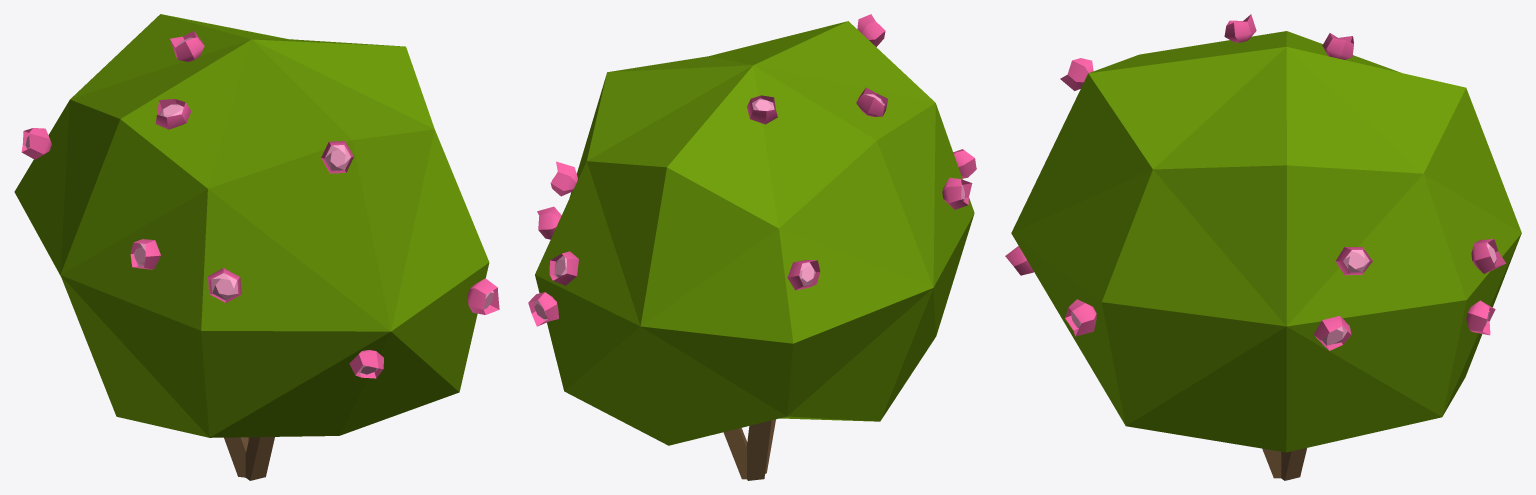
The model's file is rosebush.glb.
The picture shows the model from 3 angles, left to right: view 1: azimuth 30°, elevation 25°; view 2: azimuth 150°, elevation 25°; view 3: azimuth 270°, elevation 25°; orthographic projection. The views are drawn at different scales.
Visible parts, largest first — view 1: Geo_RoseBush; view 2: Geo_RoseBush; view 3: Geo_RoseBush.
Boxes of the visible parts, box(x1,y1,x2,y2) form: Geo_RoseBush: box(14, 14, 499, 480); Geo_RoseBush: box(528, 14, 976, 480); Geo_RoseBush: box(1005, 14, 1521, 480).
Size of the model in its own units: 31.61 by 32.97 by 36.09.
Materials: 1 (1 with a texture image).
